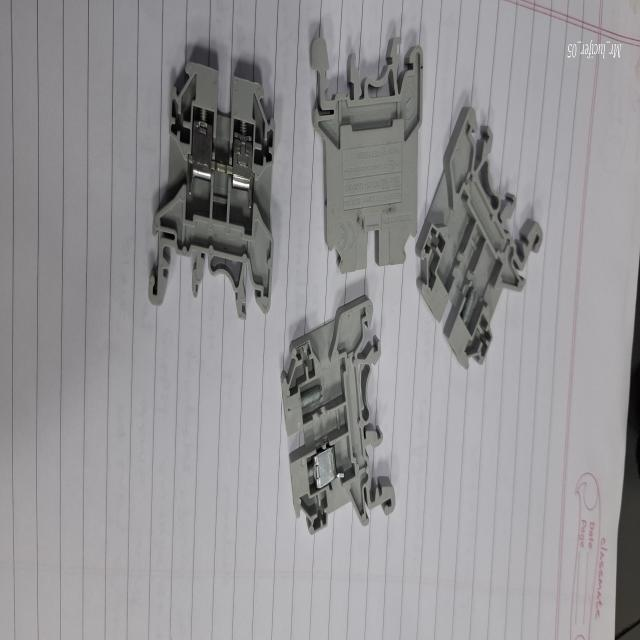Inverted: (300, 11, 440, 308)
Pass: (144, 31, 287, 358)
Reject: (408, 102, 556, 415), (265, 286, 417, 576)
